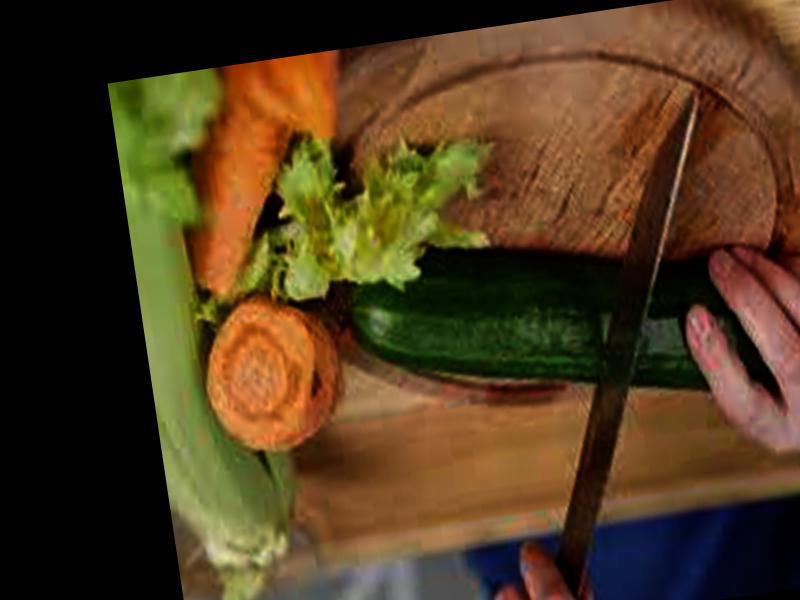Cucumber: (340, 212, 773, 442)
